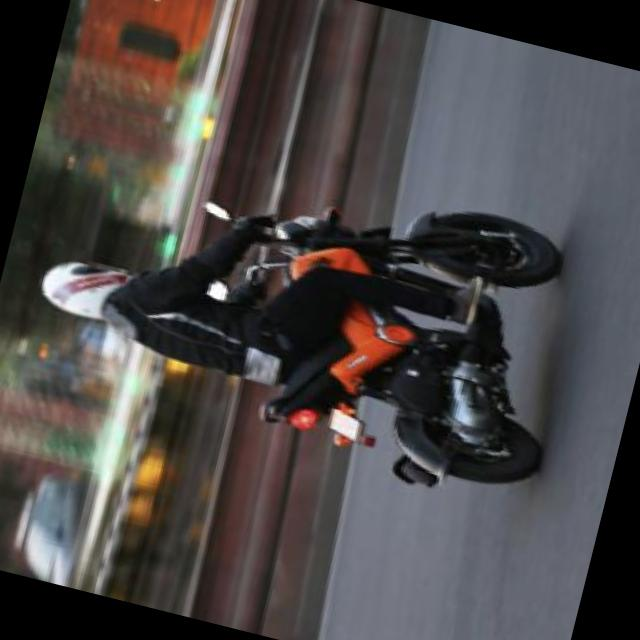With Helmet: (32, 248, 144, 329)
